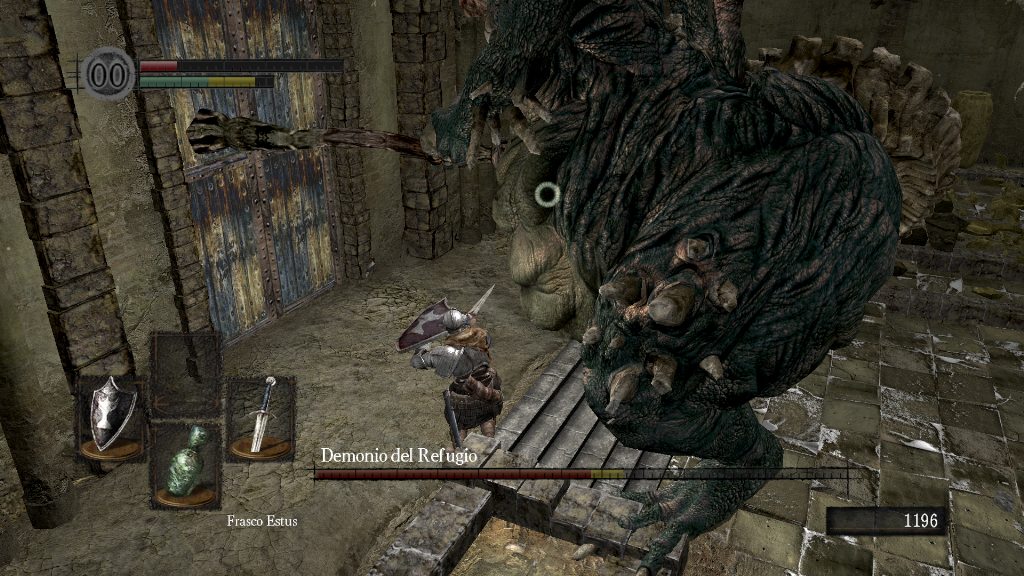asylumDemon: (414, 3, 967, 576)
bossHP: (314, 469, 847, 479)
health: (138, 58, 343, 71)
humanity: (80, 45, 136, 102)
player: (393, 281, 503, 441)
souls: (825, 506, 945, 536)
stamina: (138, 74, 274, 88)
